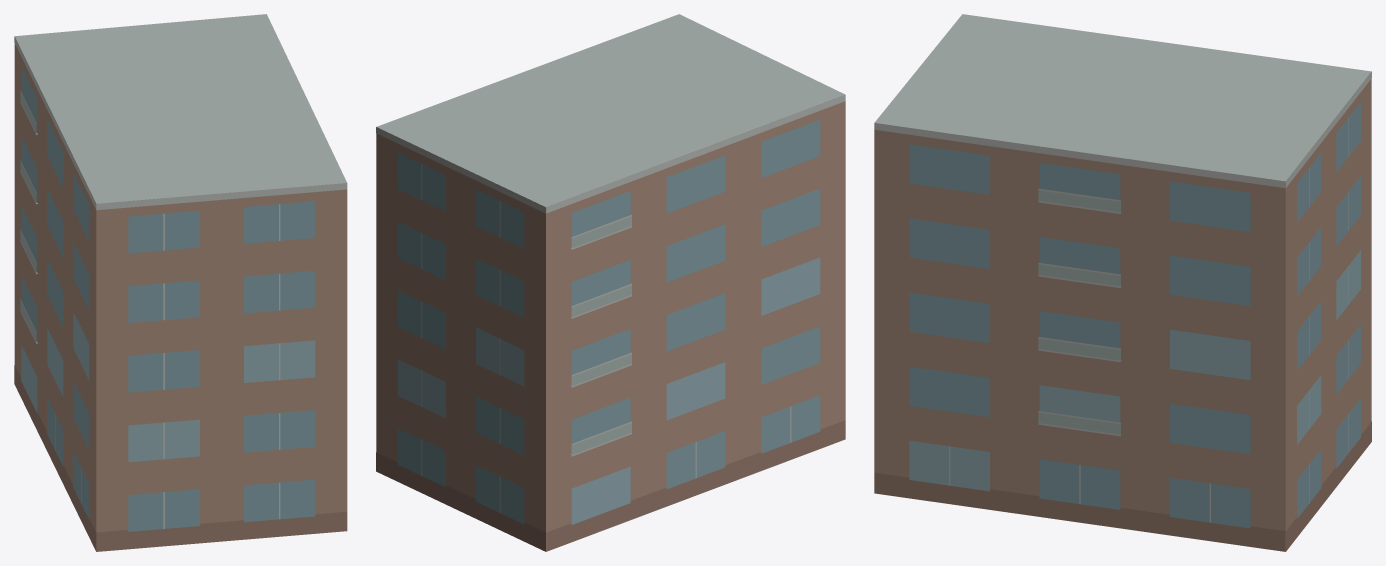
Rendered from survey-upis-32703311.glb.
The picture shows the model from 3 angles, left to right: view 1: azimuth 30°, elevation 25°; view 2: azimuth 150°, elevation 25°; view 3: azimuth 270°, elevation 25°; orthographic projection. The views are drawn at different scales.
Parts seen in each view (by area): view 1: survey-upis-32703311.tmp; view 2: survey-upis-32703311.tmp; view 3: survey-upis-32703311.tmp.
Boxes of the visible parts, x1,y1,x2,y2 form: survey-upis-32703311.tmp: (14, 14, 347, 551); survey-upis-32703311.tmp: (376, 14, 845, 551); survey-upis-32703311.tmp: (874, 14, 1371, 551).
Bounding box in the file's own units: 12.8 × 13.2 × 16.07.
